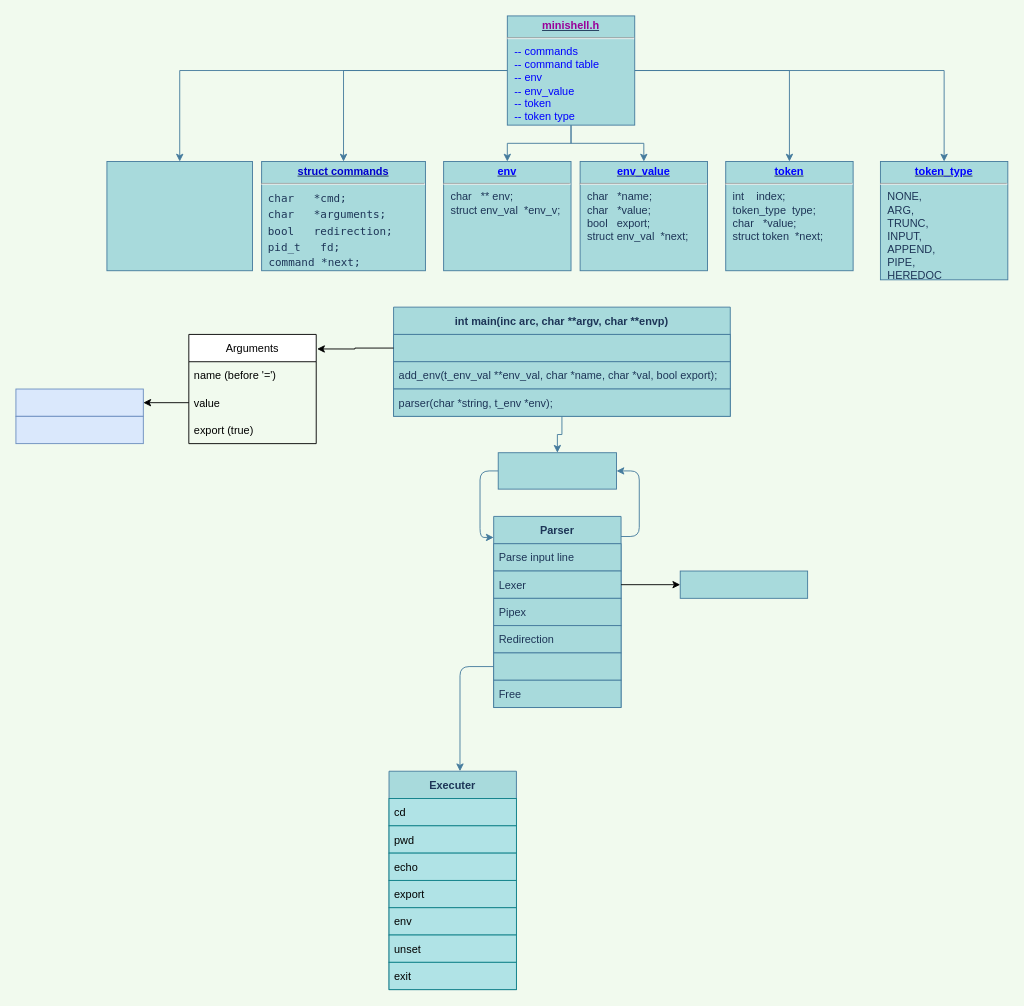
Some shapes in this 1024 by 1006 pixel diagram are drawn without their labels. The centre of each missing label's shape, as x and y in pixels:
"Absolut PATH" belongs at point (79, 402).
"Builtins" belongs at point (557, 666).
"init_env(t_env_val **env_val, char **envp);" belongs at point (561, 348).
"readline" belongs at point (557, 470).
"Relative PATH" belongs at point (79, 429).
"struct command_table int count; struct s_cmd *command;" belongs at point (179, 216).
"Token" belongs at point (743, 584).
